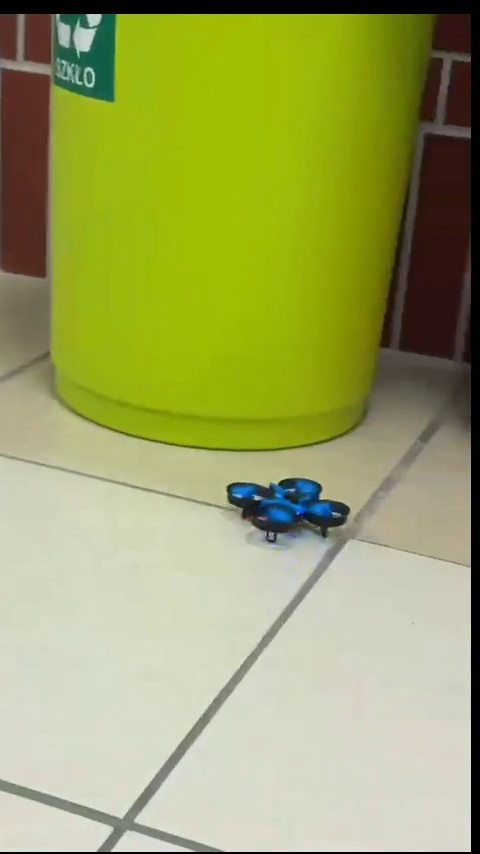drone: (229, 480, 351, 540)
